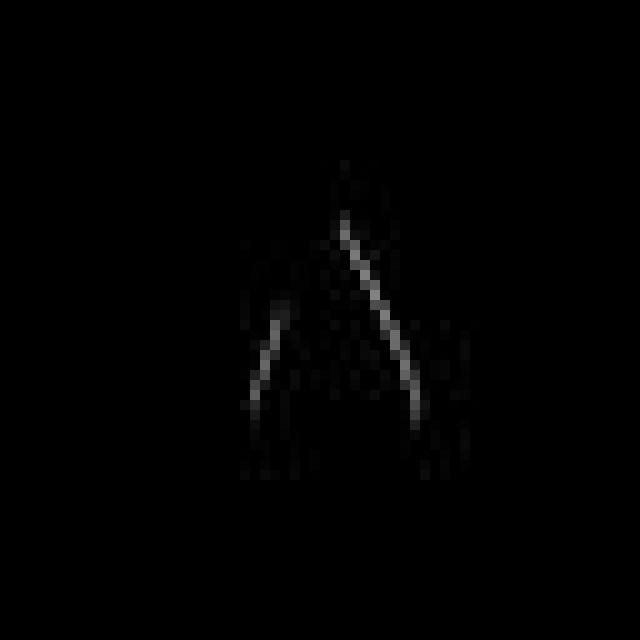8 -eight-: (238, 212, 436, 439)
